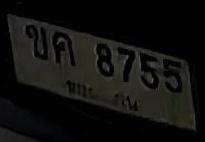number: (22, 20, 186, 95)
province: (62, 76, 140, 114)
